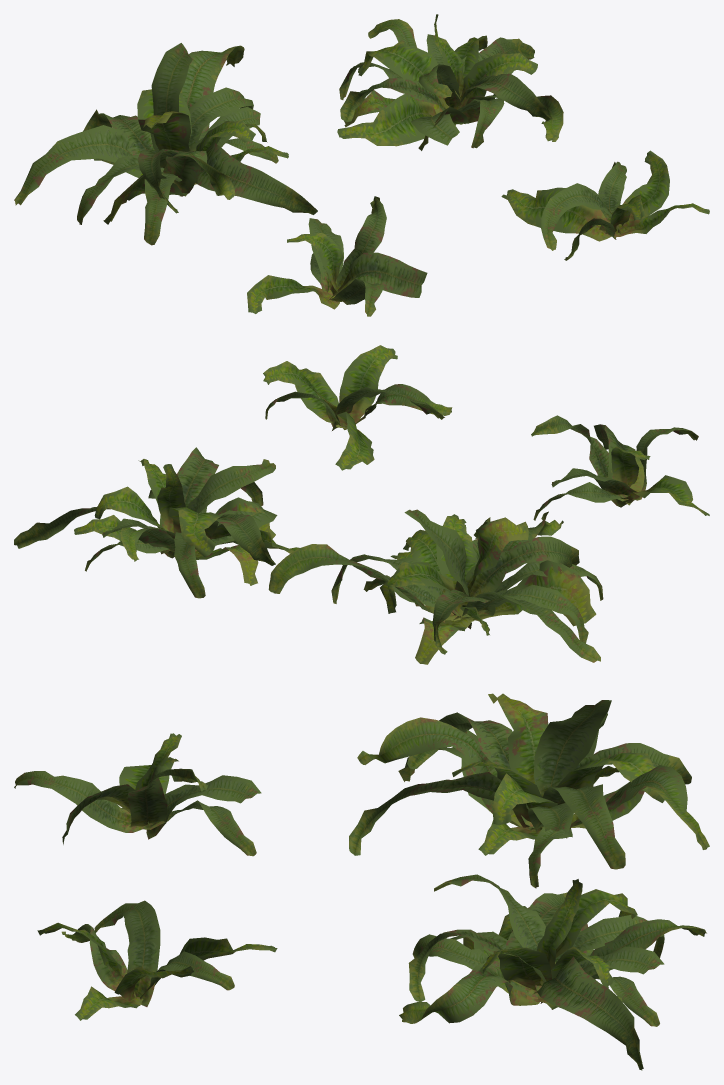
Rendered from fern_02.glb.
The picture shows the model from 3 angles, top to bottom: view 1: azimuth 30°, elevation 25°; view 2: azimuth 150°, elevation 25°; view 3: azimuth 270°, elevation 25°; orthographic projection. The views are drawn at different scales.
Parts seen in each view (by area): view 1: fern_02_b, fern_02_c, fern_02_a, fern_02_d; view 2: fern_02_b, fern_02_c, fern_02_d, fern_02_a; view 3: fern_02_b, fern_02_c, fern_02_a, fern_02_d.
Part boxes in pixels (<box>): fern_02_b: <box>14,43,317,245</box>; fern_02_c: <box>337,14,563,150</box>; fern_02_a: <box>247,196,427,316</box>; fern_02_d: <box>501,150,709,260</box>; fern_02_b: <box>268,509,603,664</box>; fern_02_c: <box>14,447,299,598</box>; fern_02_d: <box>263,345,452,470</box>; fern_02_a: <box>531,415,709,520</box>; fern_02_b: <box>349,693,709,888</box>; fern_02_c: <box>399,874,706,1070</box>; fern_02_a: <box>14,733,261,856</box>; fern_02_d: <box>37,900,277,1020</box>.
Bounding box in the file's own units: 1.97 × 0.4277 × 1.72.
1 material, 1 textured.
